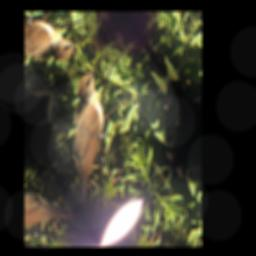Cuckoo: (32, 63, 146, 215)
